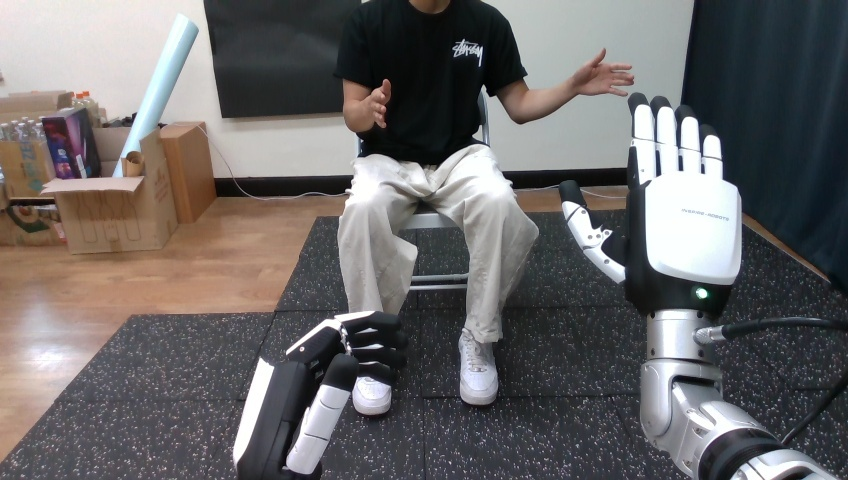left robot hand: (559, 93, 847, 479), (233, 311, 407, 479), (570, 48, 633, 95)
